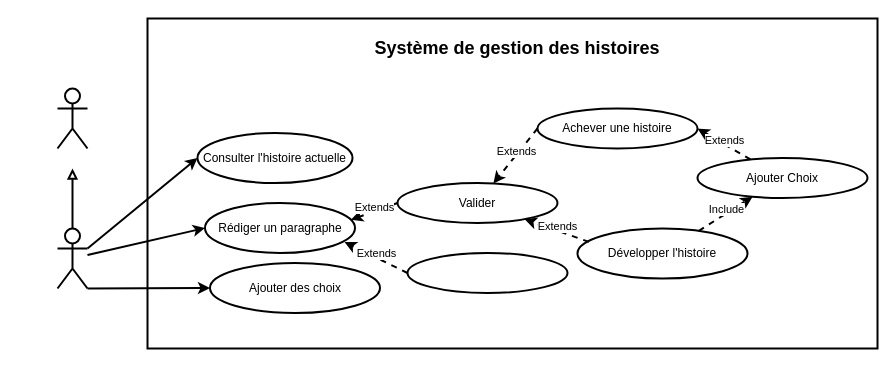
The diagram is 896 pixels wide and 366 high, and some of its shapes have lost their labels. The box of each missing label's shape, as (x1, y1, x2, y2) in pixels:
Participant: (56, 227, 88, 289)
Renoncer: (406, 252, 568, 294)
Utilisateur Enregistré: (56, 87, 88, 149)
